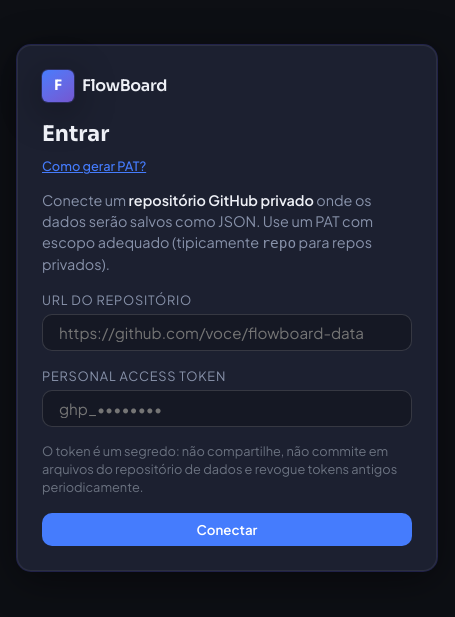
LoginView Integration Tests › valida PAT vazio com mensagem de erro
Type "https://github.com/test/repo" into the field named "repo-url".
click(227, 333); type("https://github.com/test/repo")  # box [42,314,412,351]
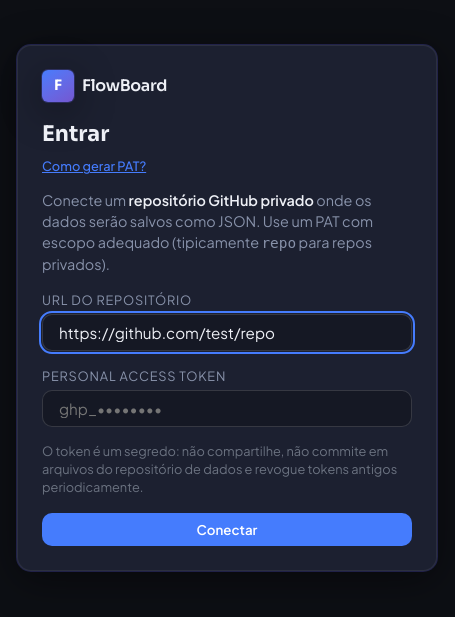
Click the submit button.
click(227, 530)  # box [42,513,412,546]
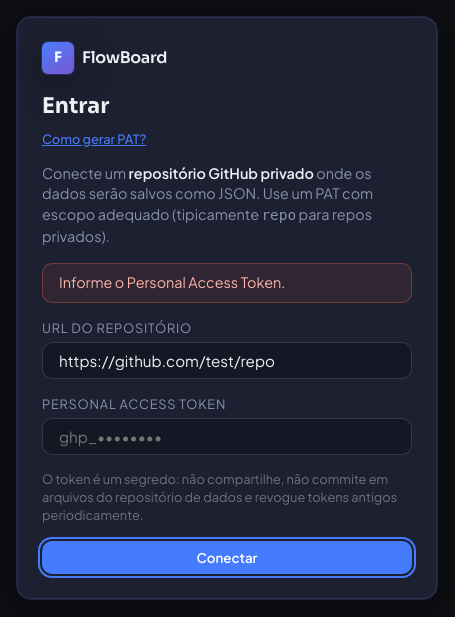
Expected: the message with class "fb-login__err" shows "Personal Access Token", [59,273,285,291]
